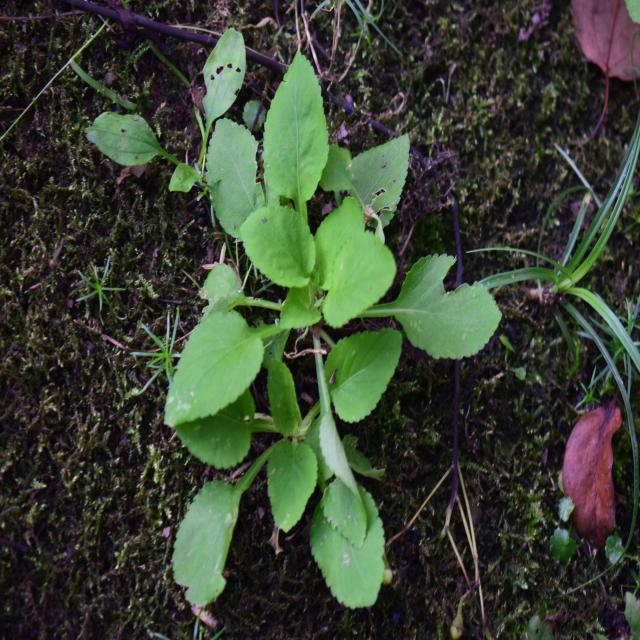Viola: (170, 64, 468, 480)
